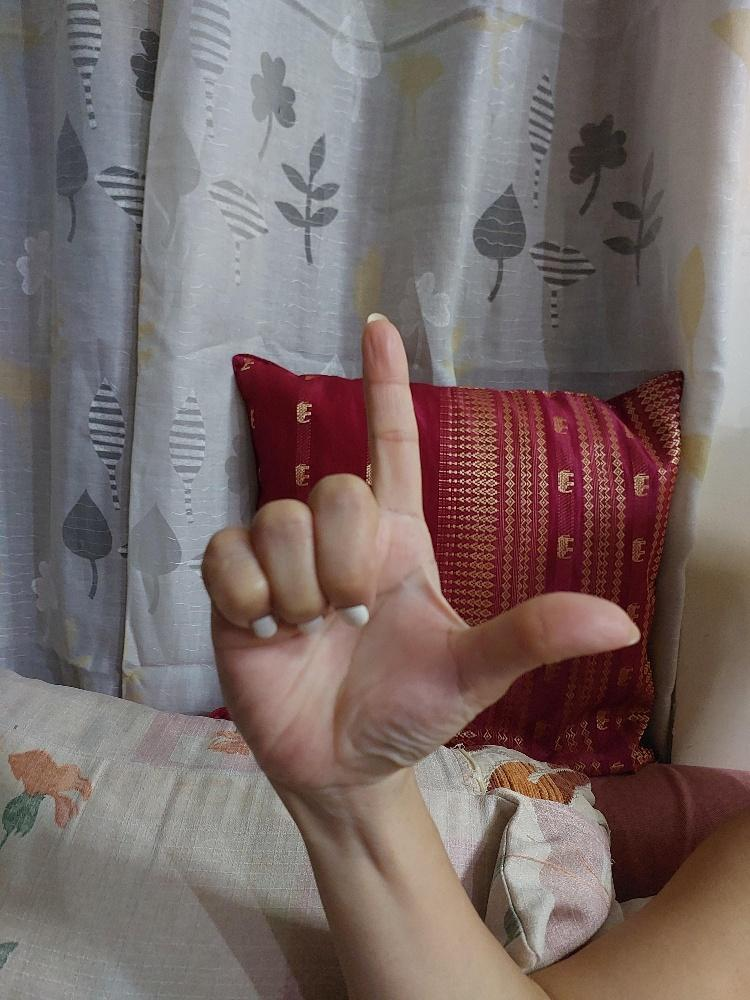l: (199, 311, 643, 785)
